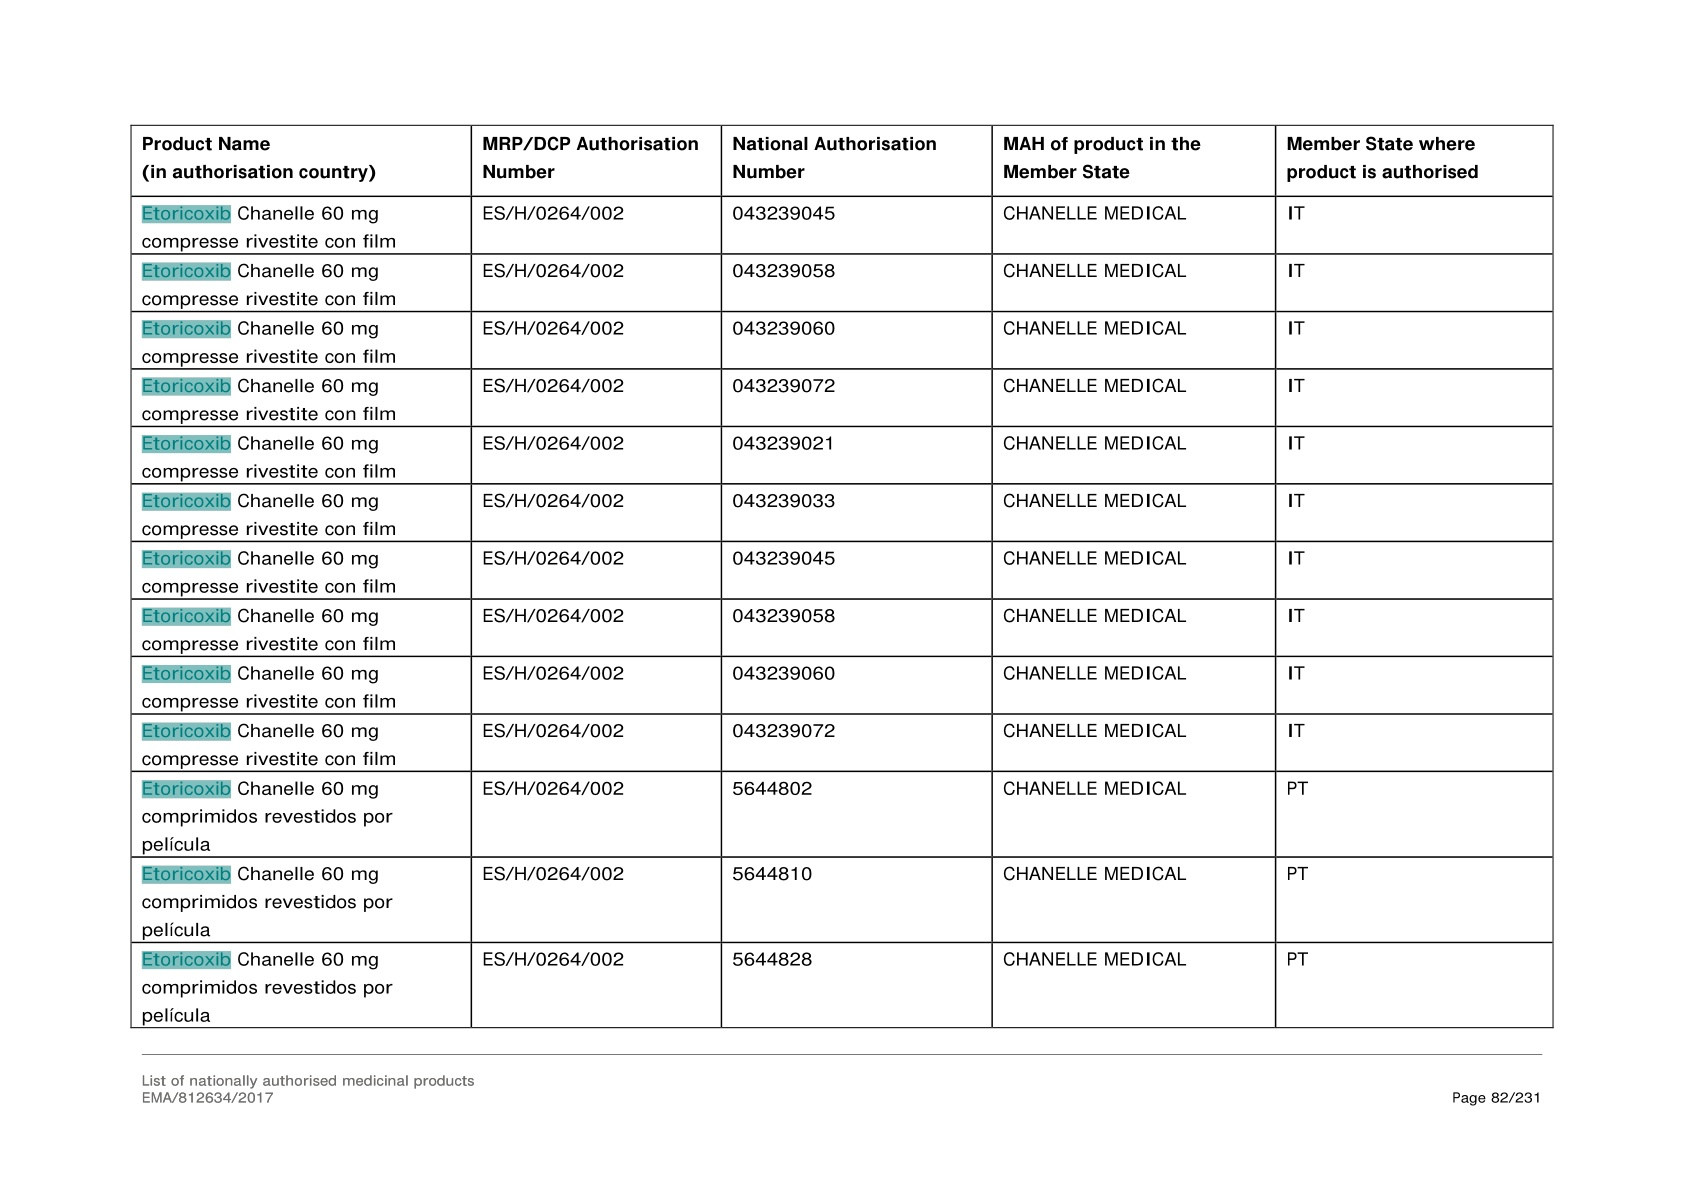full_lined: (129, 122, 1554, 1029)
